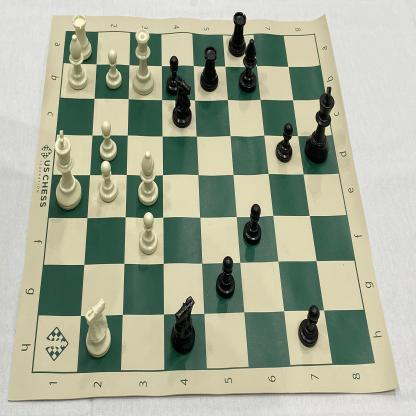black-bishop: (239, 37, 260, 95)
black-king: (303, 82, 338, 171)
black-knight: (167, 292, 199, 359), (170, 73, 196, 131)
black-pawn: (296, 300, 323, 350), (214, 252, 238, 301), (241, 201, 263, 249), (274, 121, 295, 166), (164, 53, 184, 98)
black-rook: (197, 40, 221, 95), (226, 8, 249, 61)
white-bishop: (135, 147, 163, 209), (64, 32, 89, 94)
white-king: (50, 122, 87, 215)
white-knight: (79, 292, 114, 362)
white-pawn: (136, 210, 161, 260), (95, 157, 119, 207), (96, 118, 119, 164), (103, 44, 123, 95)
white-queen: (130, 23, 158, 99)
white-rook: (68, 10, 97, 63)
